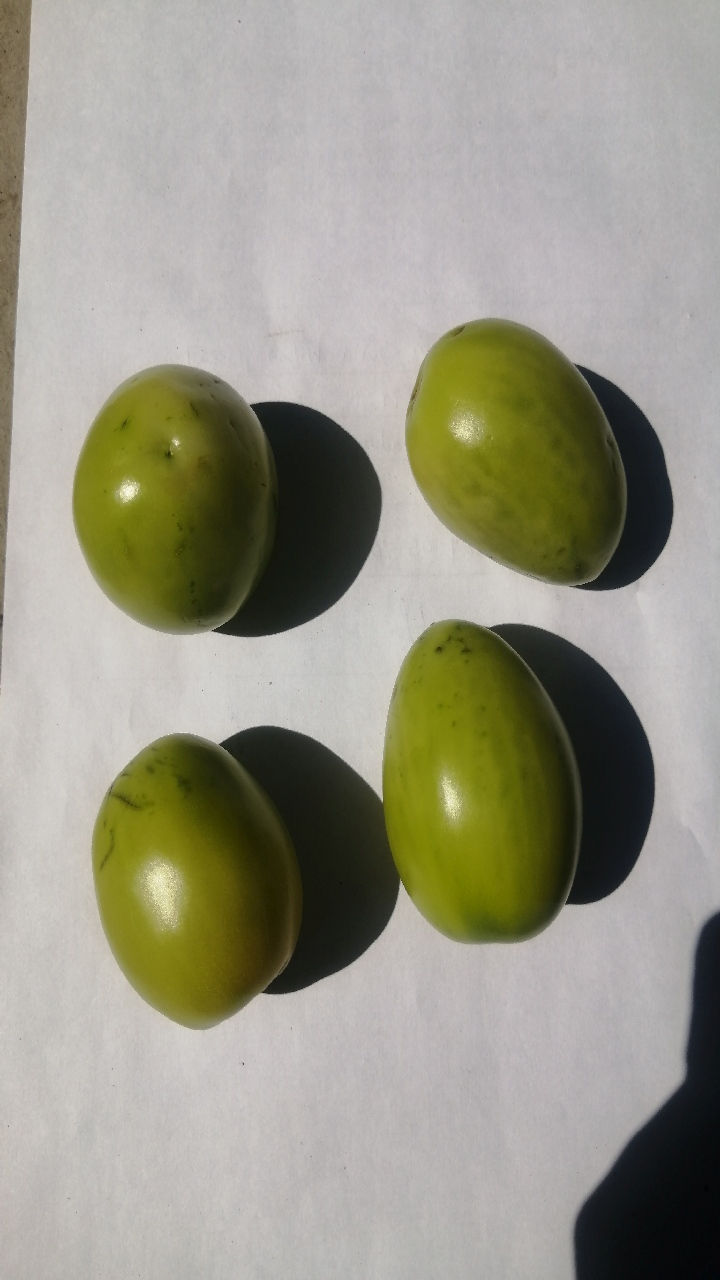tomateVerde: (63, 705, 312, 1055), (357, 588, 584, 971), (374, 288, 638, 617), (58, 348, 283, 654)
